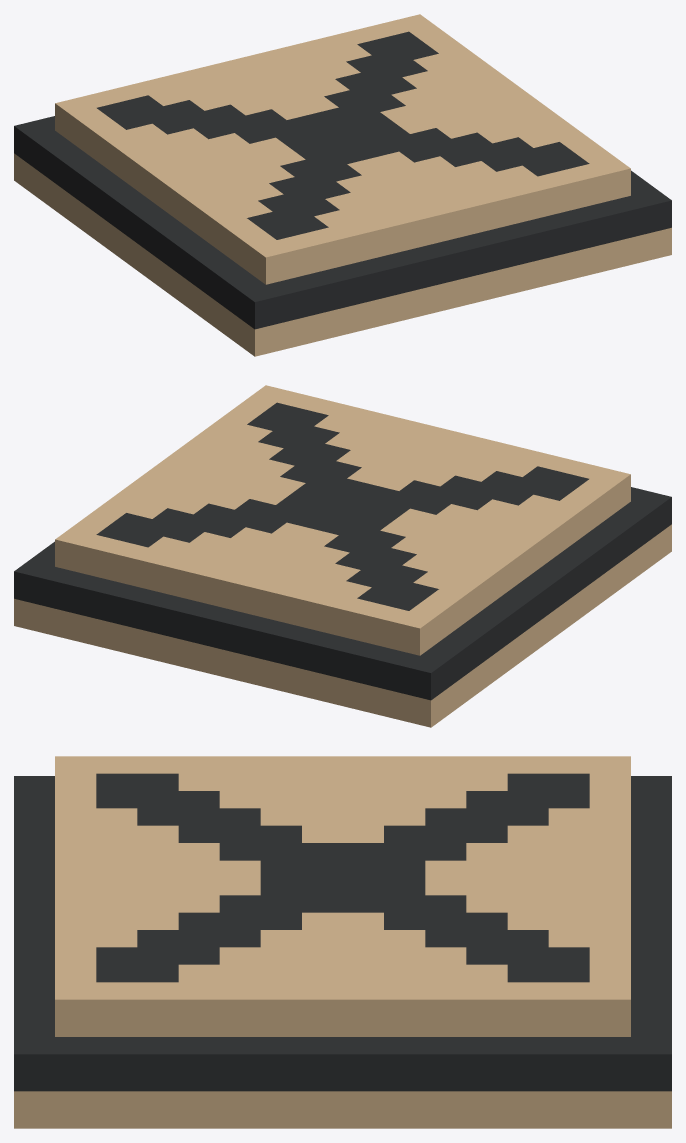
Rendered from x-v3-tan-black.gltf.
3 renders of one model, top to bottom at view 1: azimuth 30°, elevation 25°; view 2: azimuth 150°, elevation 25°; view 3: azimuth 270°, elevation 25°, orthographic. The views are drawn at different scales.
Parts seen in each view (by area): view 1: Untitled; view 2: Untitled; view 3: Untitled.
Part boxes in pixels (x1,y1,x2,y2): Untitled: (14,14,671,356); Untitled: (14,385,671,727); Untitled: (14,756,671,1128).
Size of the model in its own units: 1.6 by 0.3 by 1.6.
Materials: 1 (1 with a texture image).
